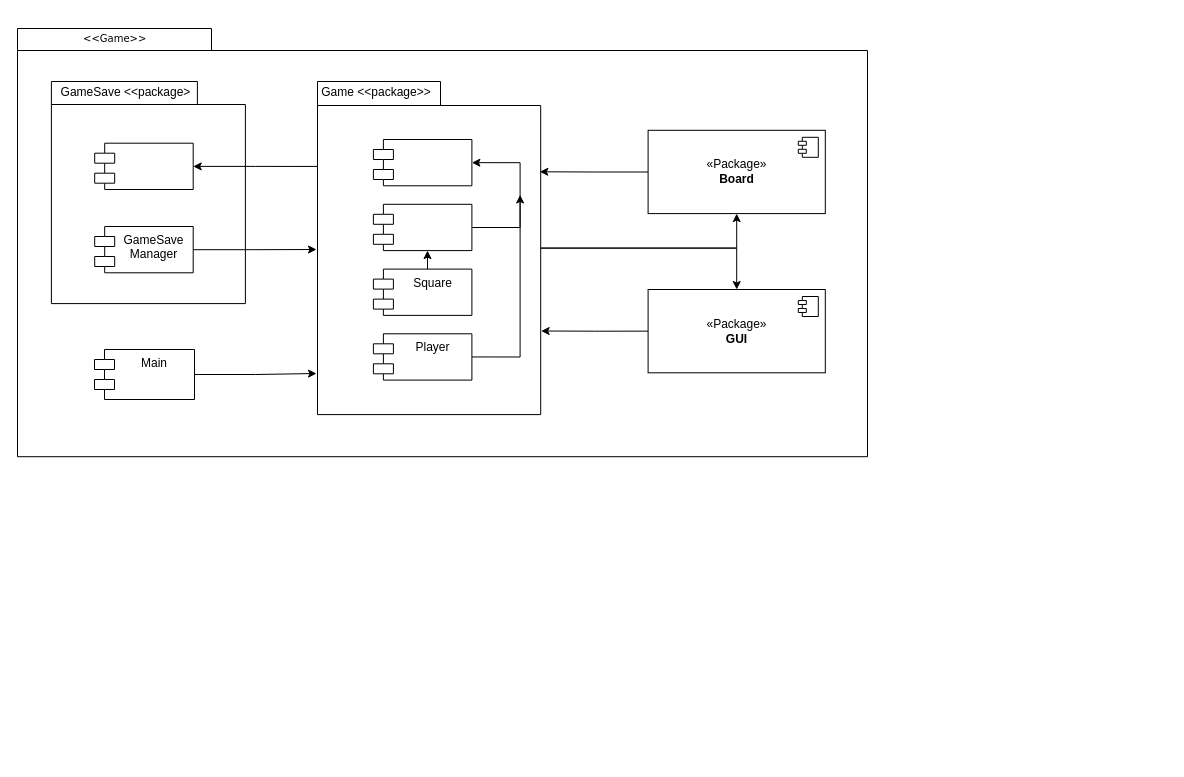
Some shapes in this 1184 by 777 pixel diagram are drawn without their labels. Each missing label, with the centre of its shape:
"Board" belongs at (422,227).
"FilePicker" belongs at (143,166).
"Game" belongs at (422,162).
